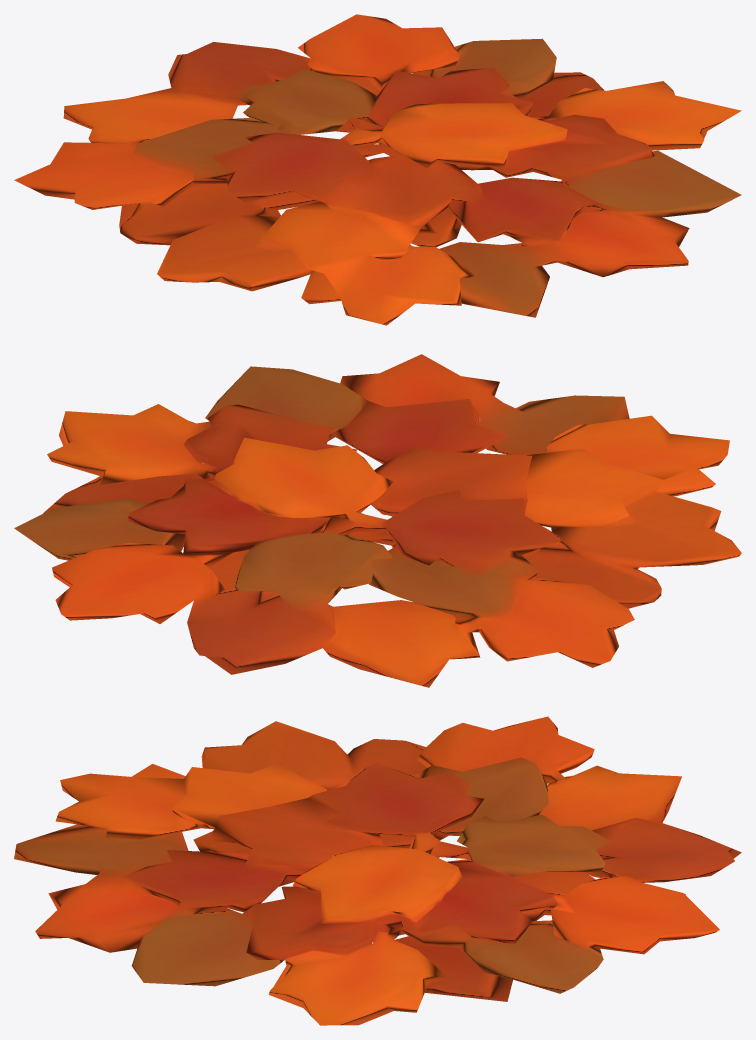
The model's file is pro_leaves-DVFpQd73.glb.
3 views of the same model, one above another, from view 1: azimuth 30°, elevation 25°; view 2: azimuth 150°, elevation 25°; view 3: azimuth 270°, elevation 25° (orthographic). The views are drawn at different scales.
Visible parts, largest first — view 1: tripo_node_529767f7-61df-4a2c-bb30-1a260d6e82ed; view 2: tripo_node_529767f7-61df-4a2c-bb30-1a260d6e82ed; view 3: tripo_node_529767f7-61df-4a2c-bb30-1a260d6e82ed.
Part boxes in pixels (x1,y1,x2,y2): tripo_node_529767f7-61df-4a2c-bb30-1a260d6e82ed: (14,14,741,325); tripo_node_529767f7-61df-4a2c-bb30-1a260d6e82ed: (14,354,741,687); tripo_node_529767f7-61df-4a2c-bb30-1a260d6e82ed: (14,716,741,1025).
Size of the model in its own units: 1 by 0.05 by 0.9949.
Materials: 1 (1 with a texture image).
